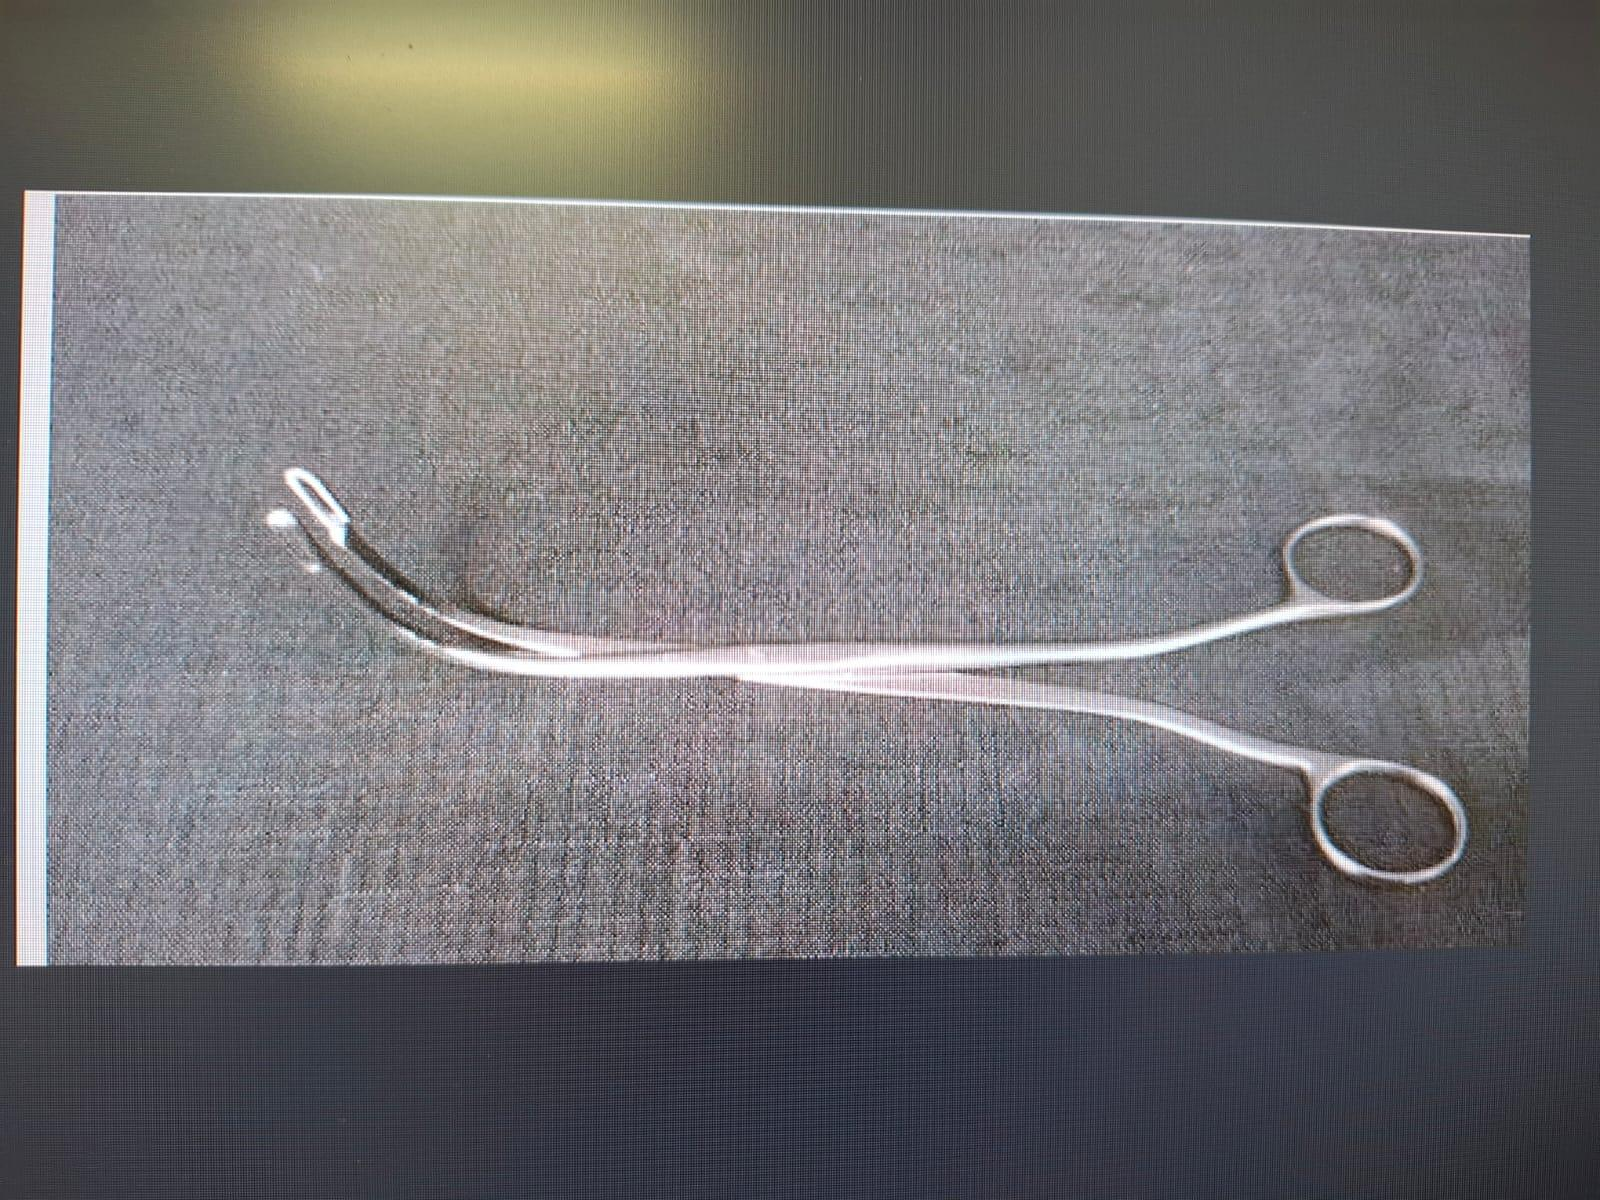Randall Forceps: (246, 432, 1496, 896)
